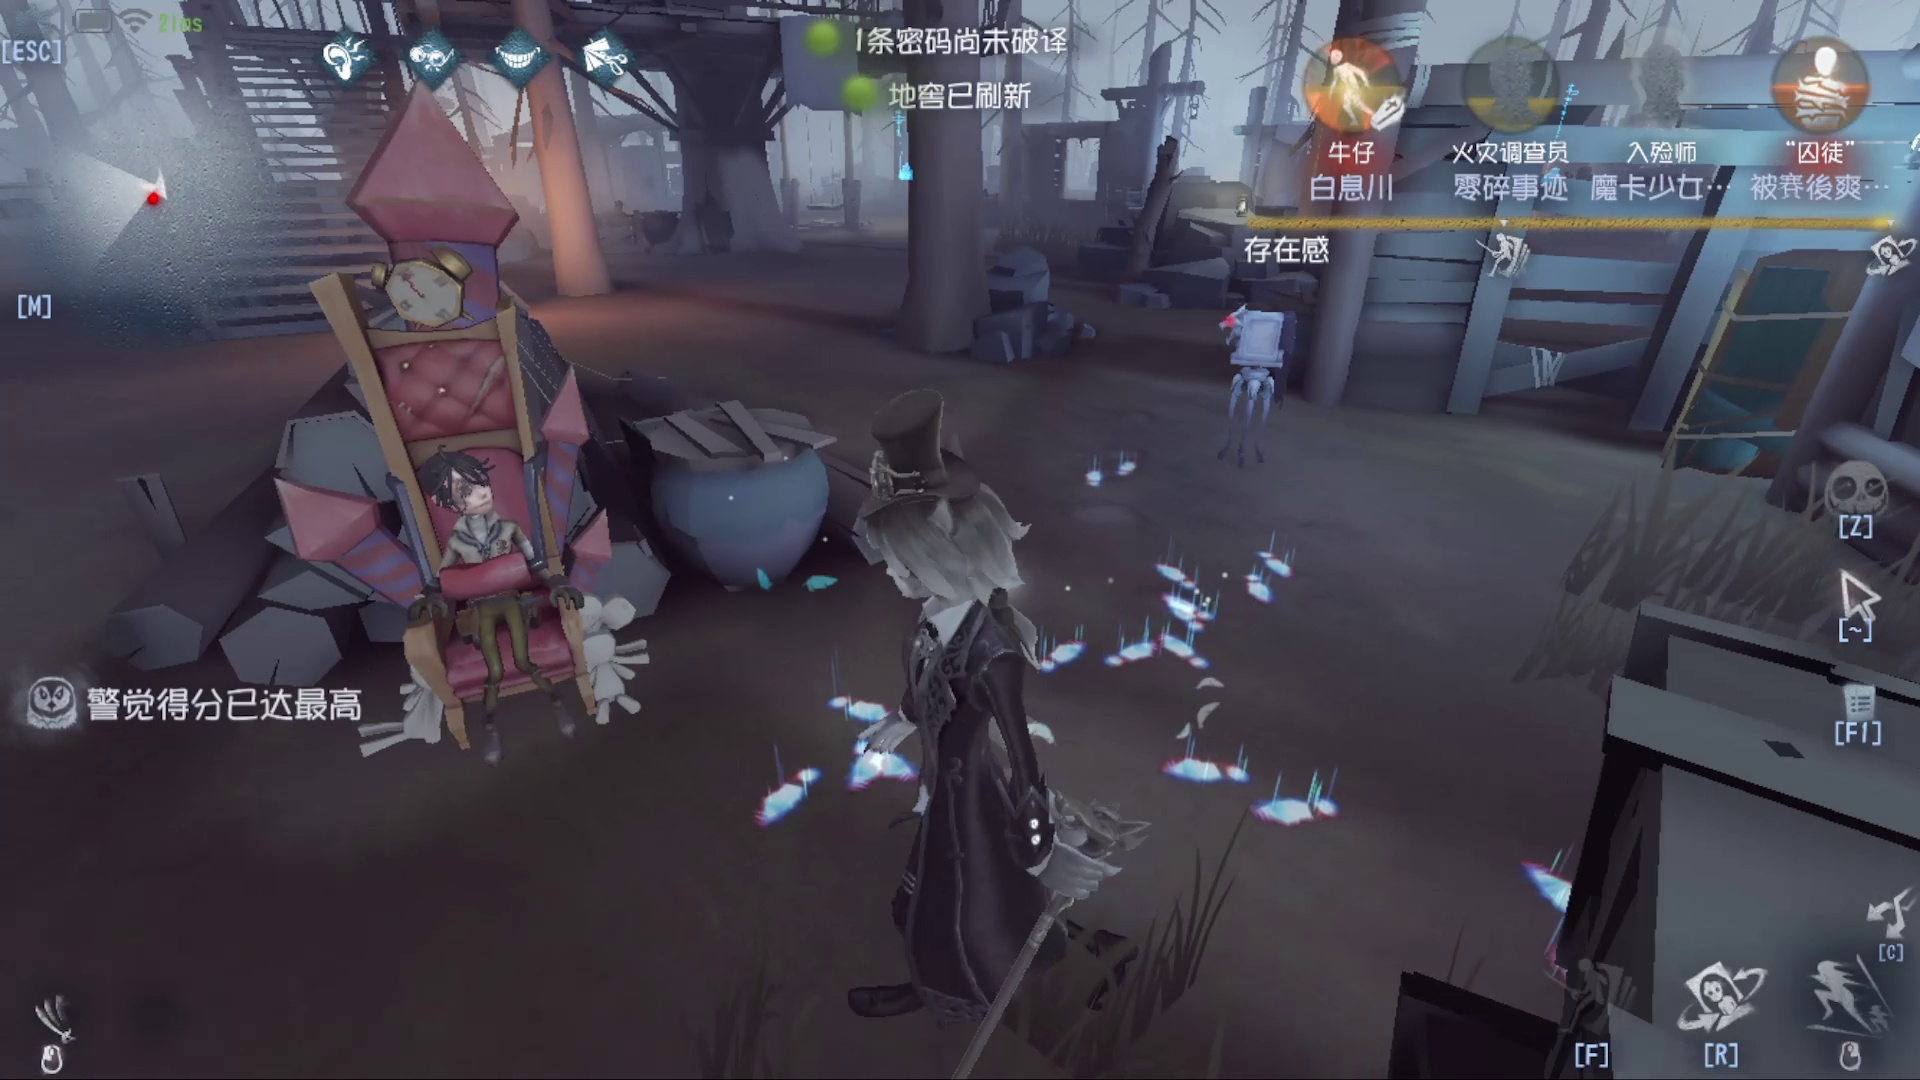木板: (1691, 233, 1832, 487)
求生者: (414, 455, 572, 713)
狂欢之椅: (280, 127, 680, 762)
